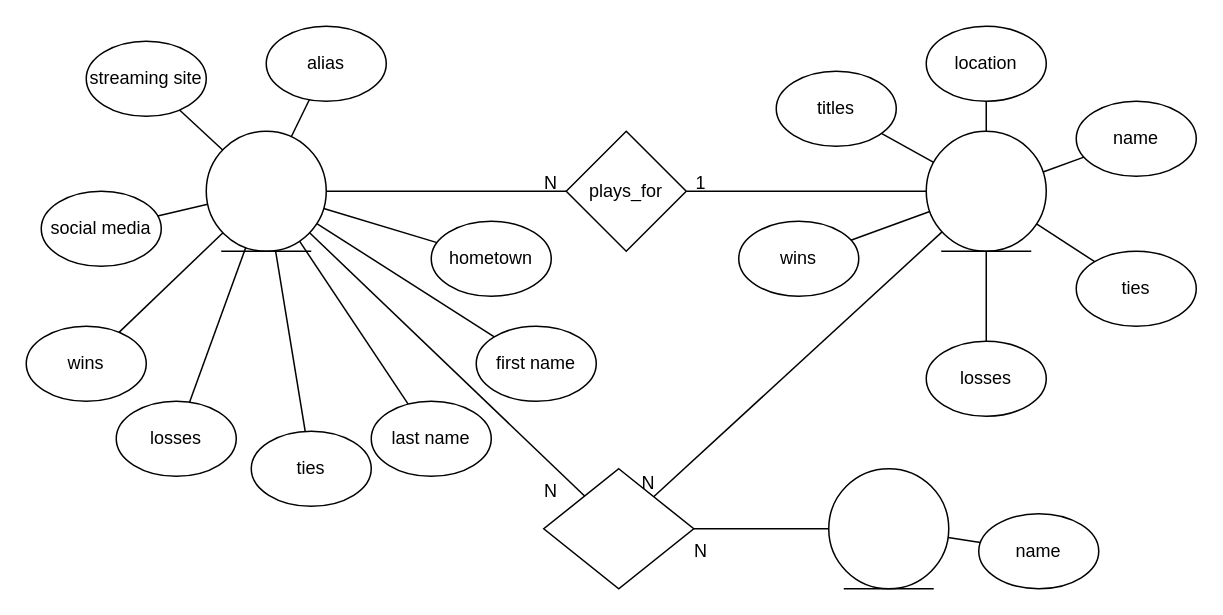
The diagram is 1223 pixels wide and 615 high, and some of its shapes have lost their labels. The box of each missing label's shape, as (x1, y1, x2, y2) in pixels:
Player: (205, 130, 326, 251)
sponsor: (827, 467, 949, 589)
sponsored_by: (542, 467, 694, 589)
Team: (925, 130, 1046, 251)
